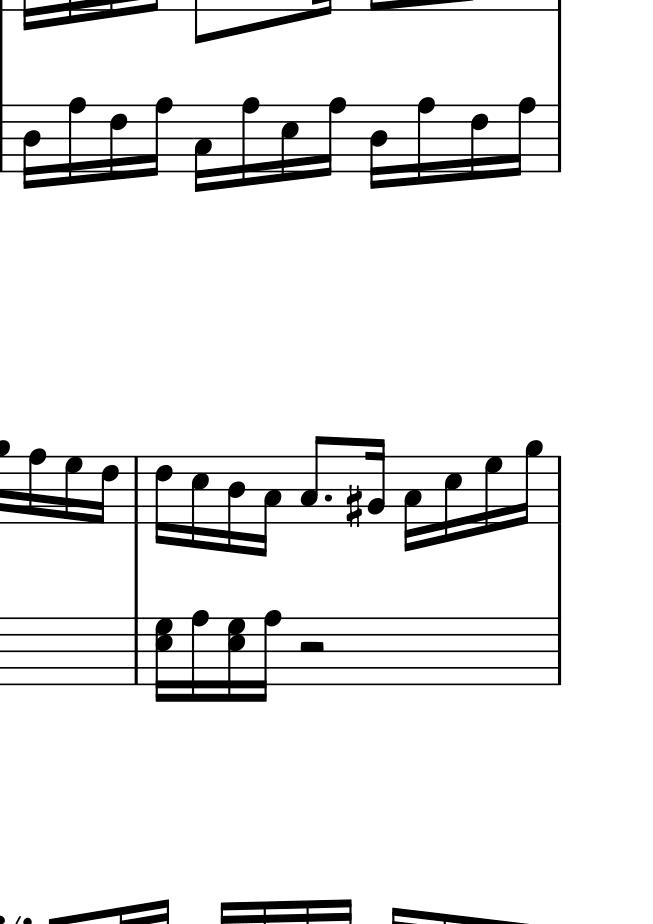16_2: (365, 437, 387, 523)
16_3: (256, 454, 282, 559), (403, 456, 422, 553), (193, 102, 212, 195)
16_4: (225, 452, 247, 557), (21, 101, 41, 190), (368, 102, 388, 190)
16_5: (189, 450, 210, 553), (442, 452, 463, 546), (279, 103, 301, 184)
16_6: (154, 451, 174, 547), (93, 453, 119, 526), (108, 101, 129, 182), (469, 101, 490, 182)
16_7: (482, 453, 502, 537), (62, 452, 83, 526)
16_8: (253, 609, 282, 706), (506, 97, 537, 177), (144, 97, 174, 176), (317, 98, 347, 177), (239, 94, 261, 191), (189, 607, 210, 706), (66, 94, 87, 189), (415, 95, 435, 189), (26, 449, 47, 523)
16_9: (516, 439, 543, 527)
8_3: (299, 435, 326, 523)
Rests2: (297, 639, 327, 655)
Sharp: (345, 483, 363, 531)
Single_barline: (128, 616, 144, 686), (551, 617, 567, 685), (553, 455, 567, 525), (129, 457, 143, 525), (552, 105, 566, 171), (1, 106, 9, 173)
dot: (322, 491, 333, 503)
